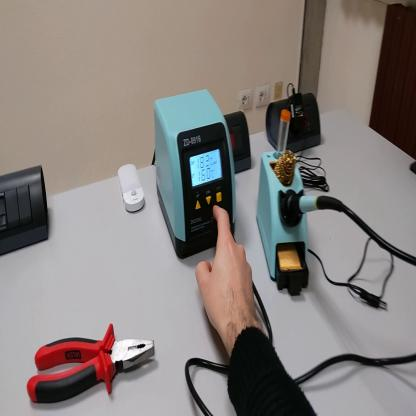hand: (197, 205, 257, 340)
pliers: (29, 324, 157, 408)
socket: (267, 93, 321, 157), (226, 107, 255, 176)
welder base: (257, 107, 312, 297)
welder probe tip: (284, 198, 338, 219)
welder station: (155, 89, 240, 260)
